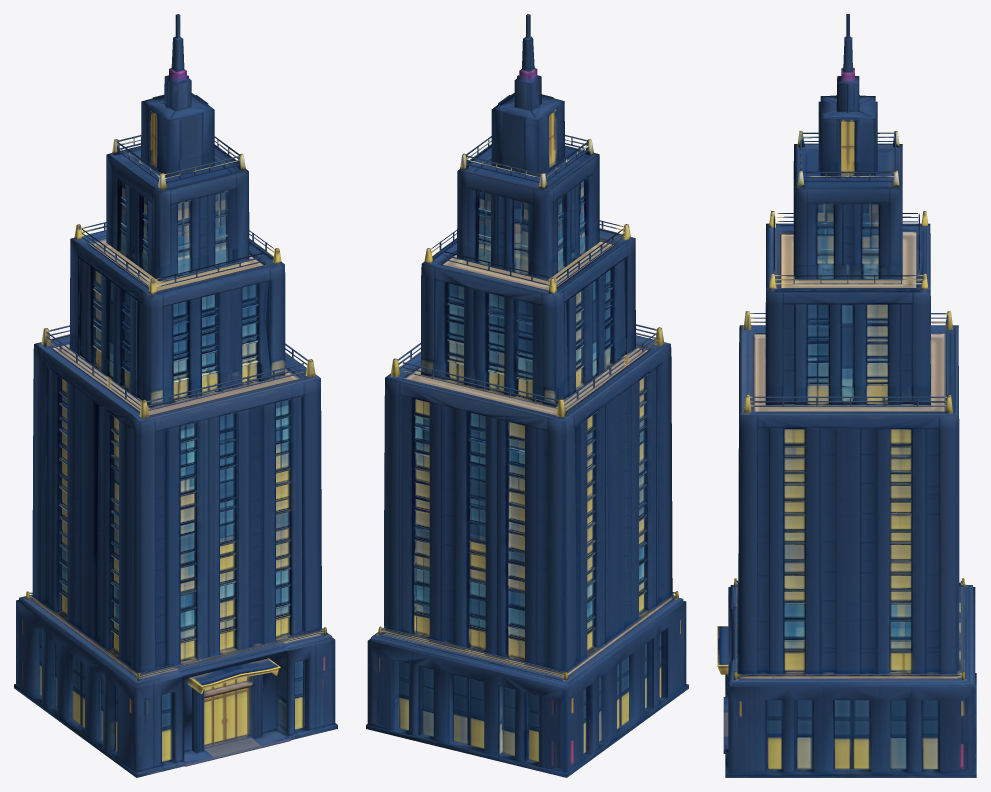
Rendered from c_step.glb.
The picture shows the model from 3 angles, left to right: view 1: azimuth 30°, elevation 25°; view 2: azimuth 150°, elevation 25°; view 3: azimuth 270°, elevation 25°; orthographic projection. The views are drawn at different scales.
Parts seen in each view (by area): view 1: tripo_node_dc77d806-9e21-4971-931b-7cd583cb8c8a; view 2: tripo_node_dc77d806-9e21-4971-931b-7cd583cb8c8a; view 3: tripo_node_dc77d806-9e21-4971-931b-7cd583cb8c8a.
Part boxes in pixels (<box>): tripo_node_dc77d806-9e21-4971-931b-7cd583cb8c8a: <box>14,14,337,777</box>; tripo_node_dc77d806-9e21-4971-931b-7cd583cb8c8a: <box>366,14,688,777</box>; tripo_node_dc77d806-9e21-4971-931b-7cd583cb8c8a: <box>717,14,976,777</box>.
Size of the model in its own units: 0.3032 by 0.9995 by 0.3296.
1 material, 1 textured.
